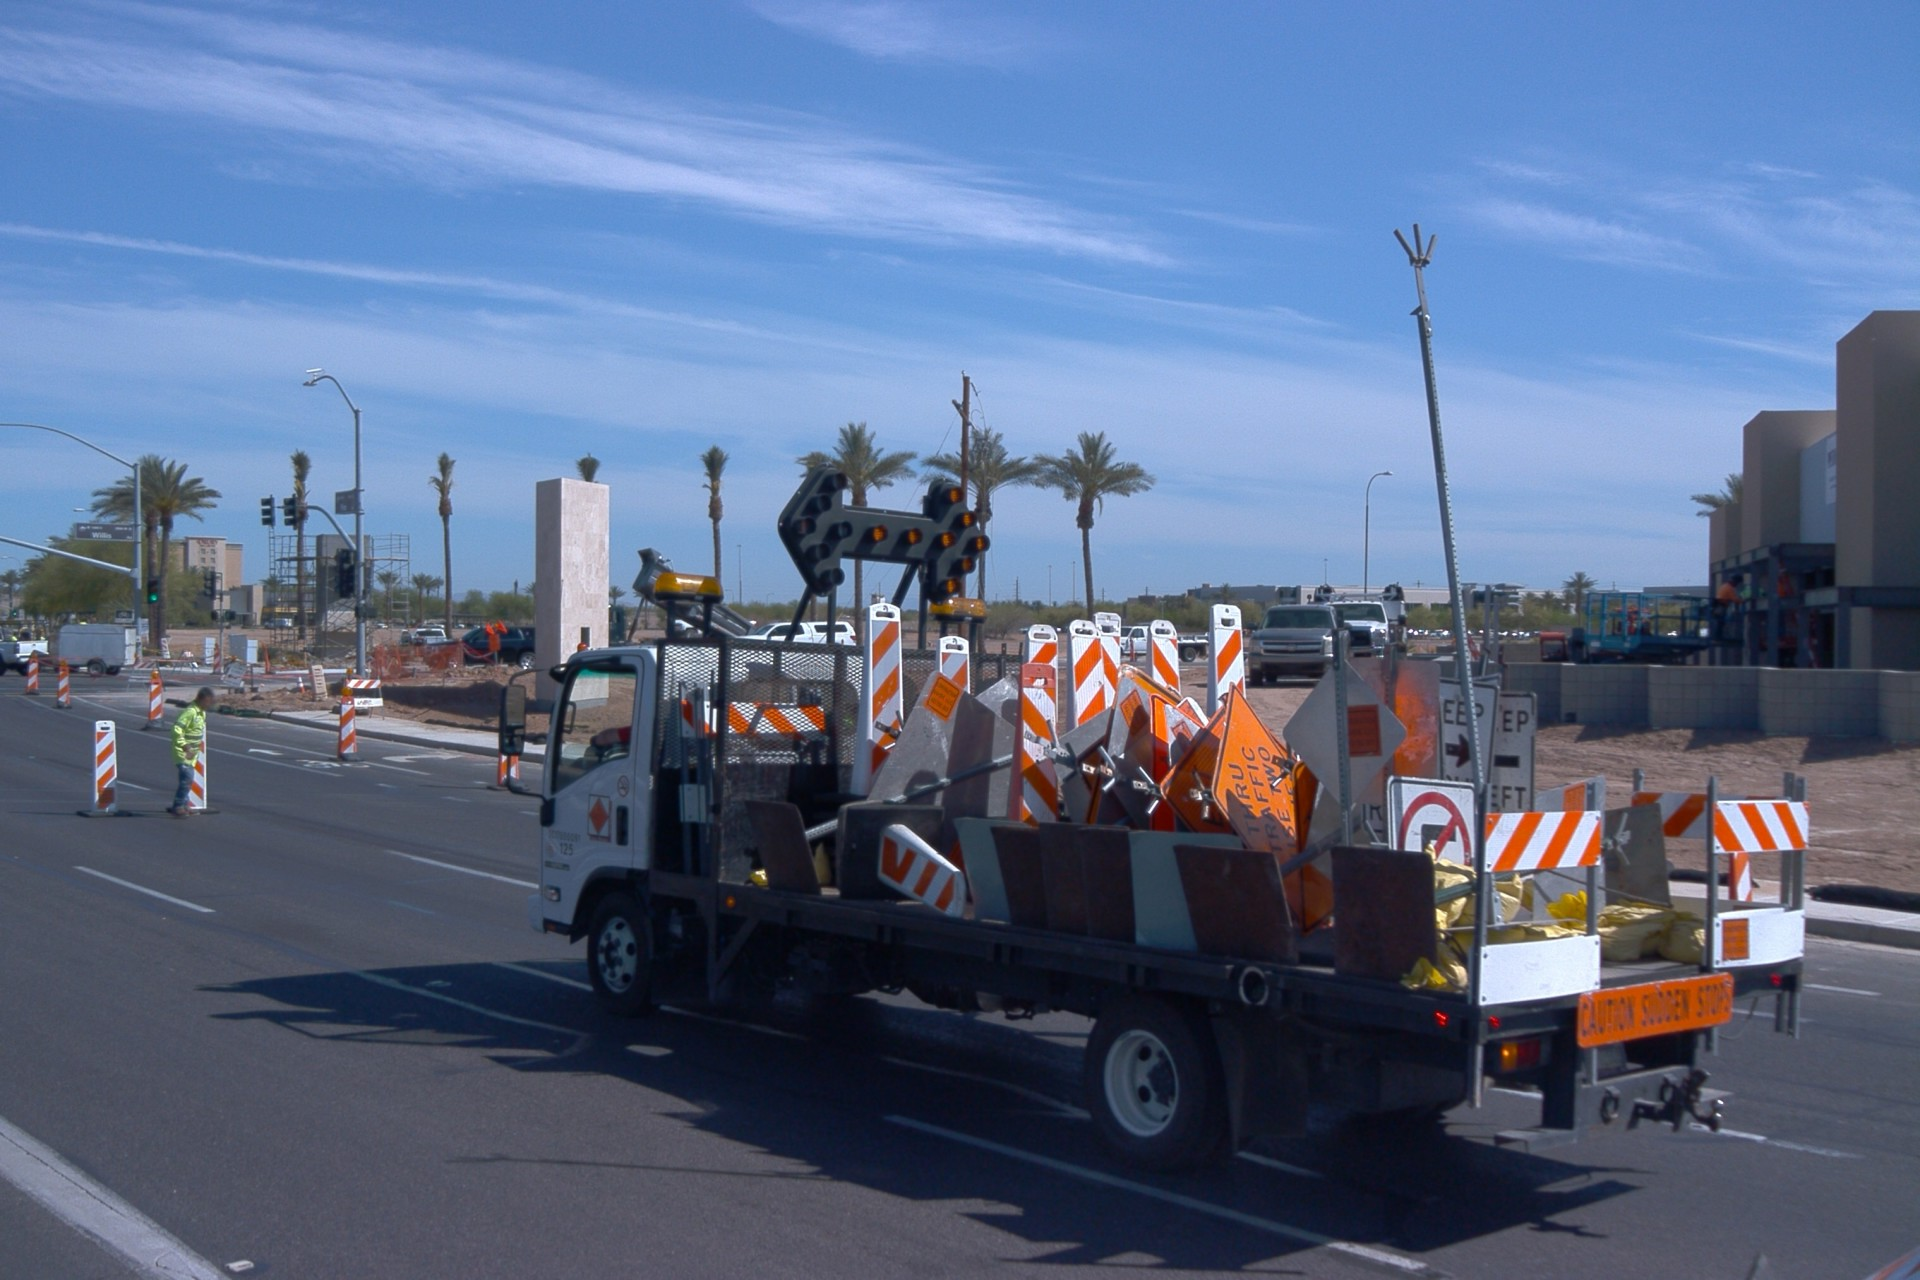TYPE_PEDESTRIAN: (166, 687, 218, 822), (78, 616, 91, 628), (9, 630, 18, 642)
TYPE_VEHICLE: (488, 214, 1816, 1180), (604, 545, 752, 649), (1240, 595, 1356, 694), (1310, 580, 1414, 671), (425, 620, 540, 669), (1111, 616, 1214, 665), (58, 618, 137, 674), (730, 624, 854, 650), (0, 636, 48, 677), (51, 613, 100, 635), (407, 632, 447, 649), (670, 620, 703, 640), (264, 619, 296, 632), (1240, 647, 1252, 660)
